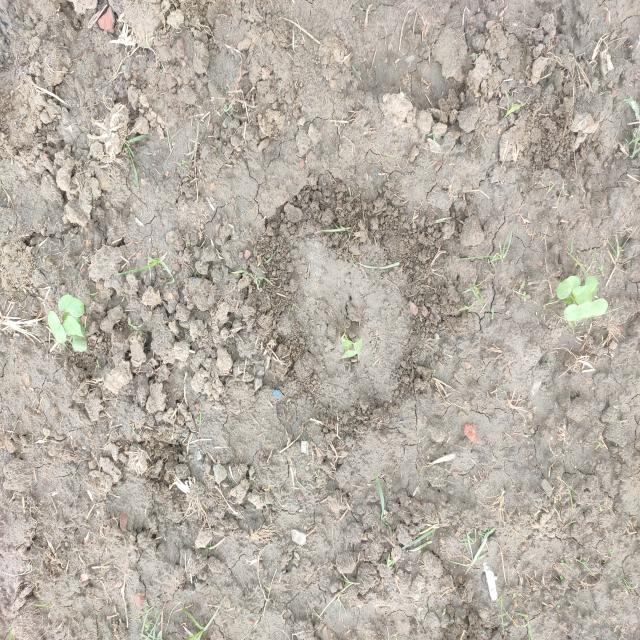seedling: (564, 298, 608, 322), (48, 311, 67, 344), (58, 295, 86, 317), (557, 275, 580, 300), (63, 315, 84, 337), (573, 284, 592, 304), (72, 335, 87, 352), (586, 276, 597, 292), (340, 350, 357, 359), (341, 339, 353, 349), (354, 339, 362, 353)
